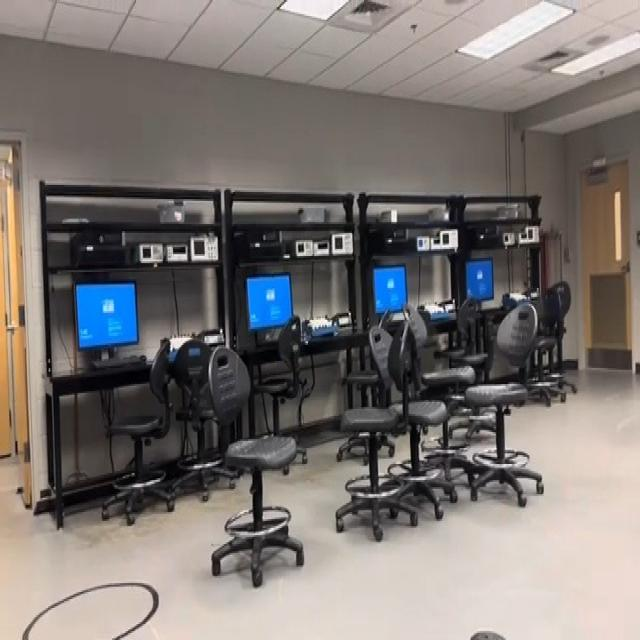drone: (288, 303, 326, 385)
